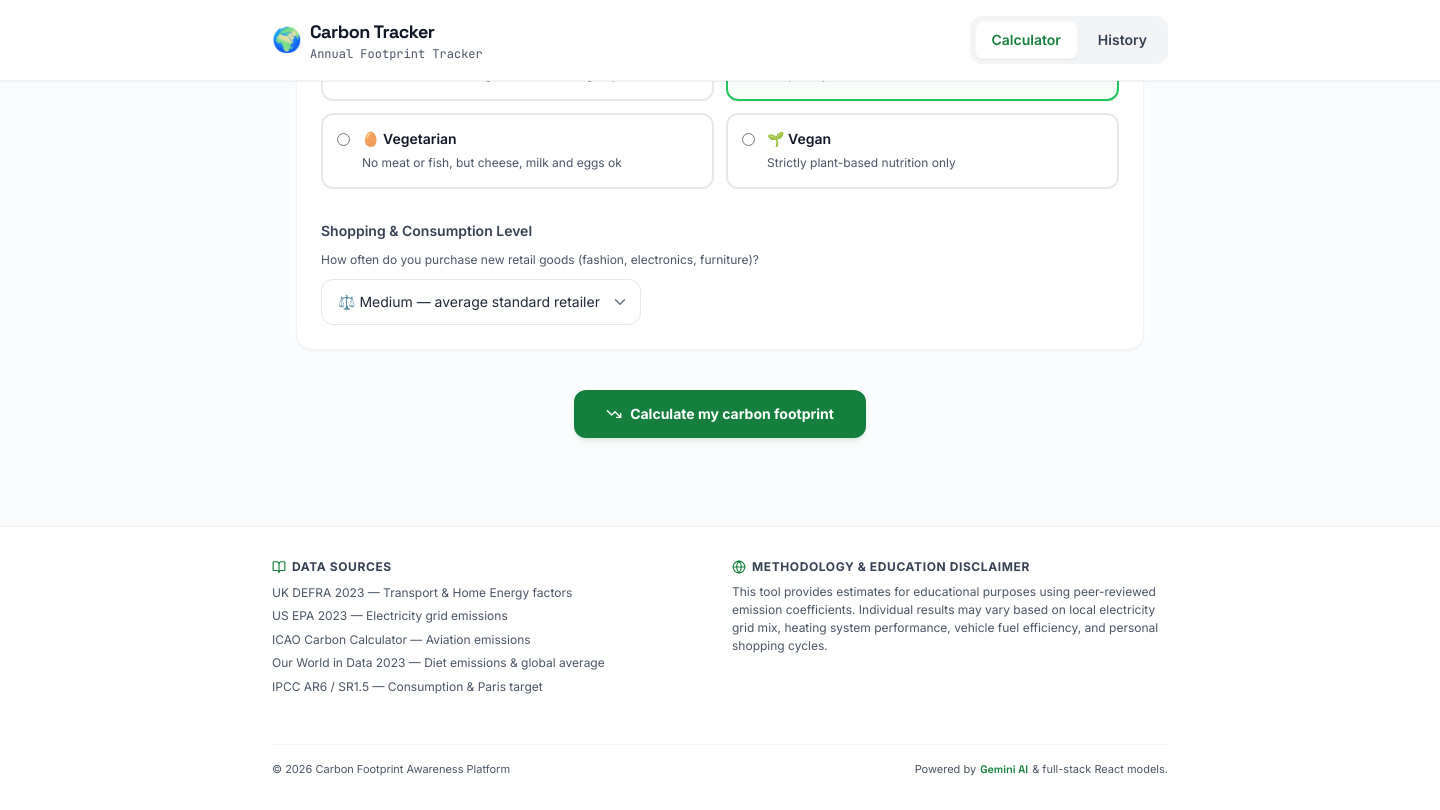
Test: App Component Extensive Flows › Form Submission Flows (handleSubmitForm) › handles calculate API failure gracefully
(page scrolled)
Click the button "Calculate my carbon footprint" at (720, 414), box [574, 390, 866, 438]
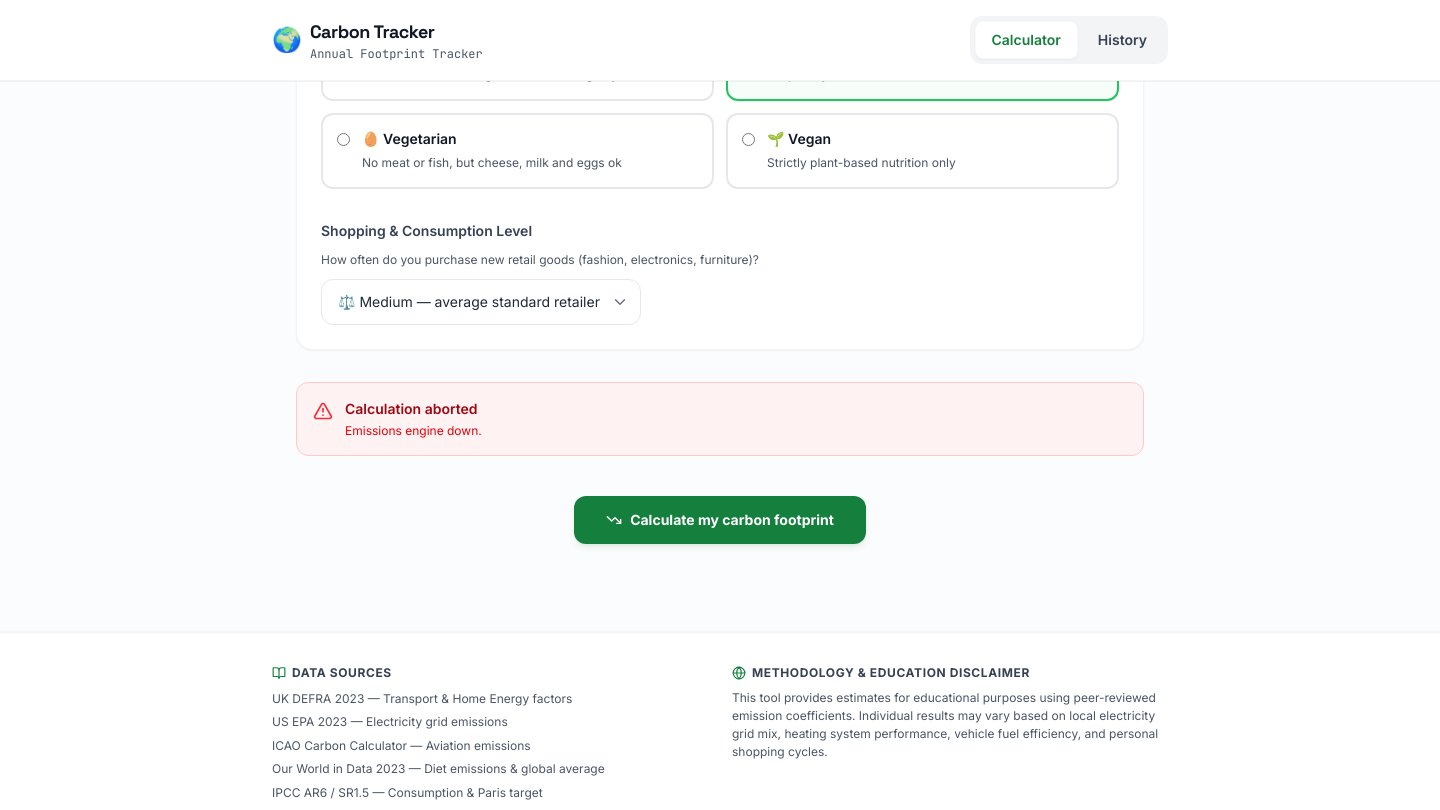
Expected: the text "Calculation aborted" is shown, [345, 398, 482, 418]
Expected: the text "Emissions engine down." is shown, [345, 422, 482, 438]
